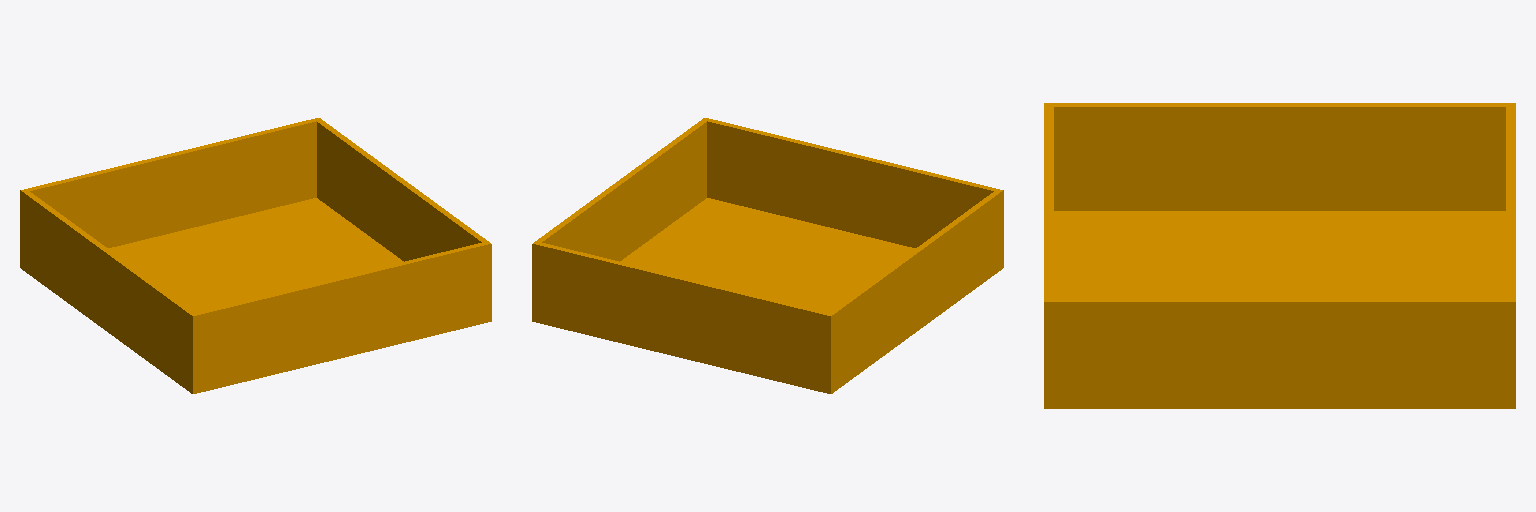
The robot description file, URDF, robot "arena_wall":
<robot name="arena_wall">
  <link concave="yes" name="baseLink">
    <contact>
      <lateral_friction value="0.5"/>
      <rolling_friction value="0.0"/>
      <contact_cfm value="0.0"/>
      <contact_erp value="1.0"/>
    </contact>
    <inertial>
      <origin rpy="0 0 0" xyz="0 0 0"/>
      <mass value="0"/>
      <inertia ixx="0" ixy="0" ixz="0" iyy="0" iyz="0" izz="0"/>
    </inertial>
    <visual>
      <origin rpy="0 0 0" xyz="0 0 0"/>
      <geometry>
        <mesh filename="arena_wall.obj" scale="1 1 1"/>
      </geometry>

    </visual>
    <!--concave='yes' is needed. Otherwise, the convex hull will be used-->
    <collision concave="yes">
      <origin rpy="0 0 0" xyz="0 0 0"/>
      <geometry>
        <mesh filename="arena_wall.obj" scale="1 1 1"/>
      </geometry>
    </collision>
  </link>
</robot>

--- What the picture shows (computed from the rendered views, not written in the file) ---
Views: 3 orthographic renders of the robot side by side, from view 1: azimuth 30°, elevation 25°; view 2: azimuth 150°, elevation 25°; view 3: azimuth 270°, elevation 25°.
Model arena_wall with 1 links and 0 joints (none), rooted at baseLink, posed every joint at zero.
Links seen in each view (by area): view 1: baseLink; view 2: baseLink; view 3: baseLink.
Link boxes in pixels (x1,y1,x2,y2): baseLink: [20, 118, 491, 393]; baseLink: [532, 118, 1003, 393]; baseLink: [1044, 103, 1515, 408].
Bounding box of the posed robot: 2 × 2 × 0.5 m (x, y, z).
Meshes: 1 distinct files referenced, 1 mesh visuals loaded (1 OBJ).